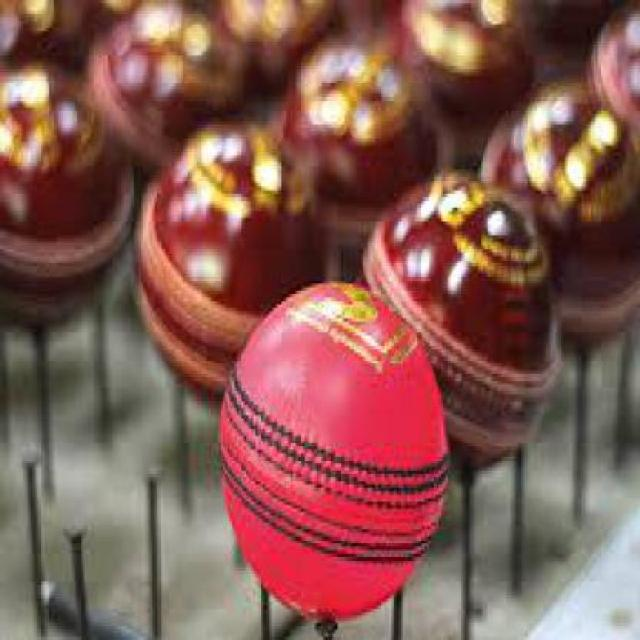ball: (216, 270, 450, 625)
